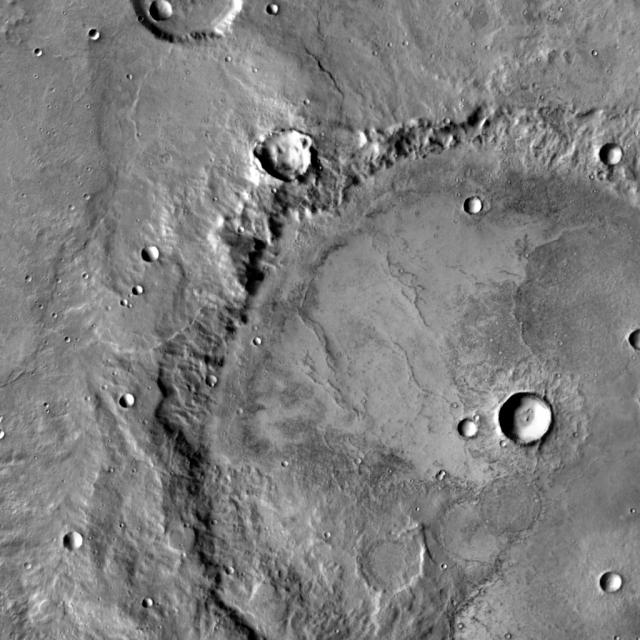crater: (163, 113, 640, 640), (363, 533, 428, 594), (502, 393, 555, 443), (264, 133, 315, 182), (603, 144, 626, 167), (155, 0, 177, 21), (604, 574, 626, 594), (462, 420, 482, 440), (68, 532, 88, 552), (146, 246, 164, 263), (468, 199, 484, 215), (124, 396, 139, 410), (270, 5, 282, 16), (94, 28, 105, 40), (0, 428, 10, 439), (147, 598, 158, 608), (138, 286, 148, 296), (211, 376, 221, 386), (258, 338, 267, 346), (602, 172, 610, 180), (230, 569, 238, 576), (277, 454, 284, 462), (28, 562, 36, 569), (32, 42, 39, 49), (80, 266, 88, 272), (22, 268, 30, 274), (120, 294, 126, 300), (322, 526, 328, 532), (432, 469, 438, 475)
